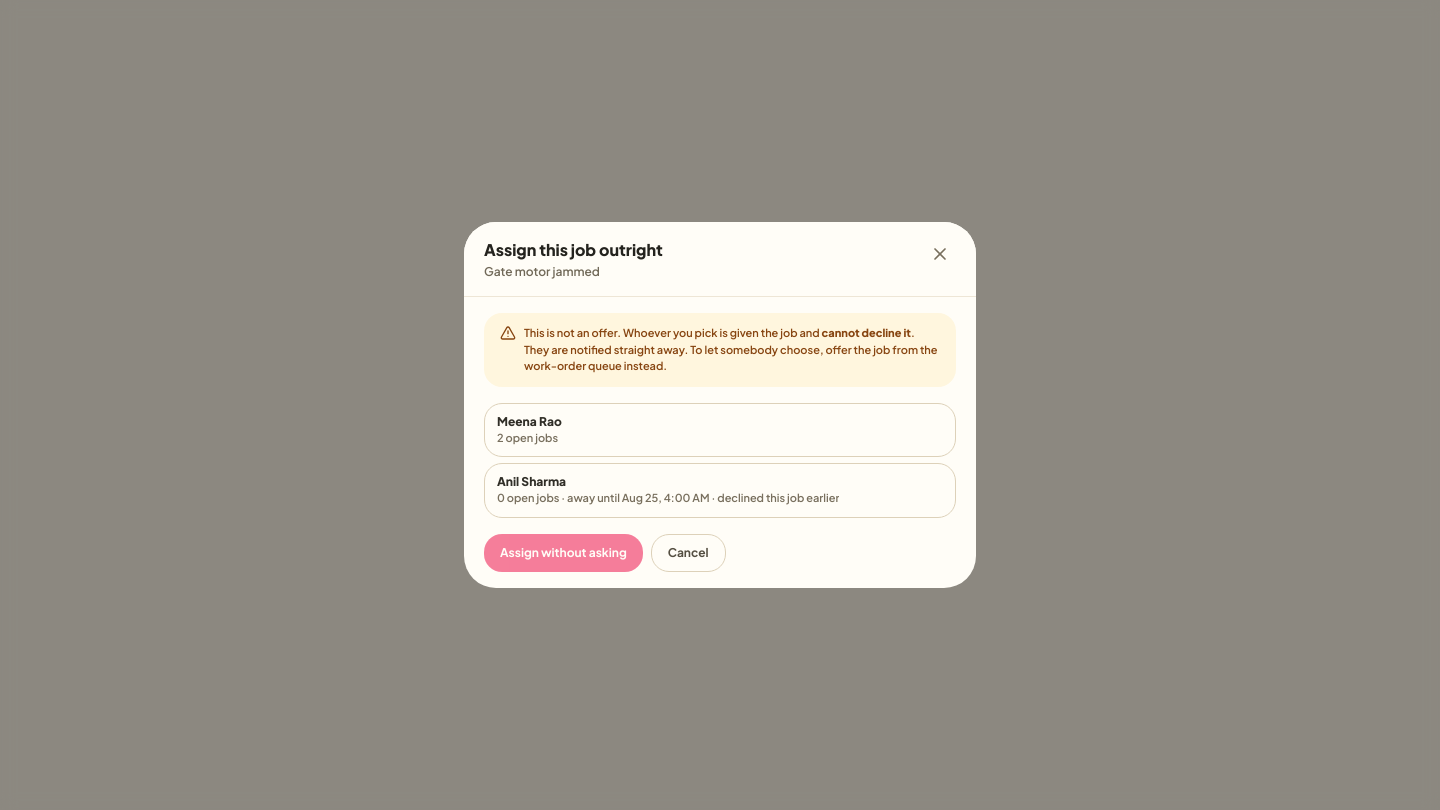
Scenario: assigning a job outright › keeps the picker open and shows the refusal when the database says no
What coordinates should you click on to do the following:
click the button "Meena Rao 2 open jobs"
I would click on:
 (529, 421)
Its box is [484,403,956,457].
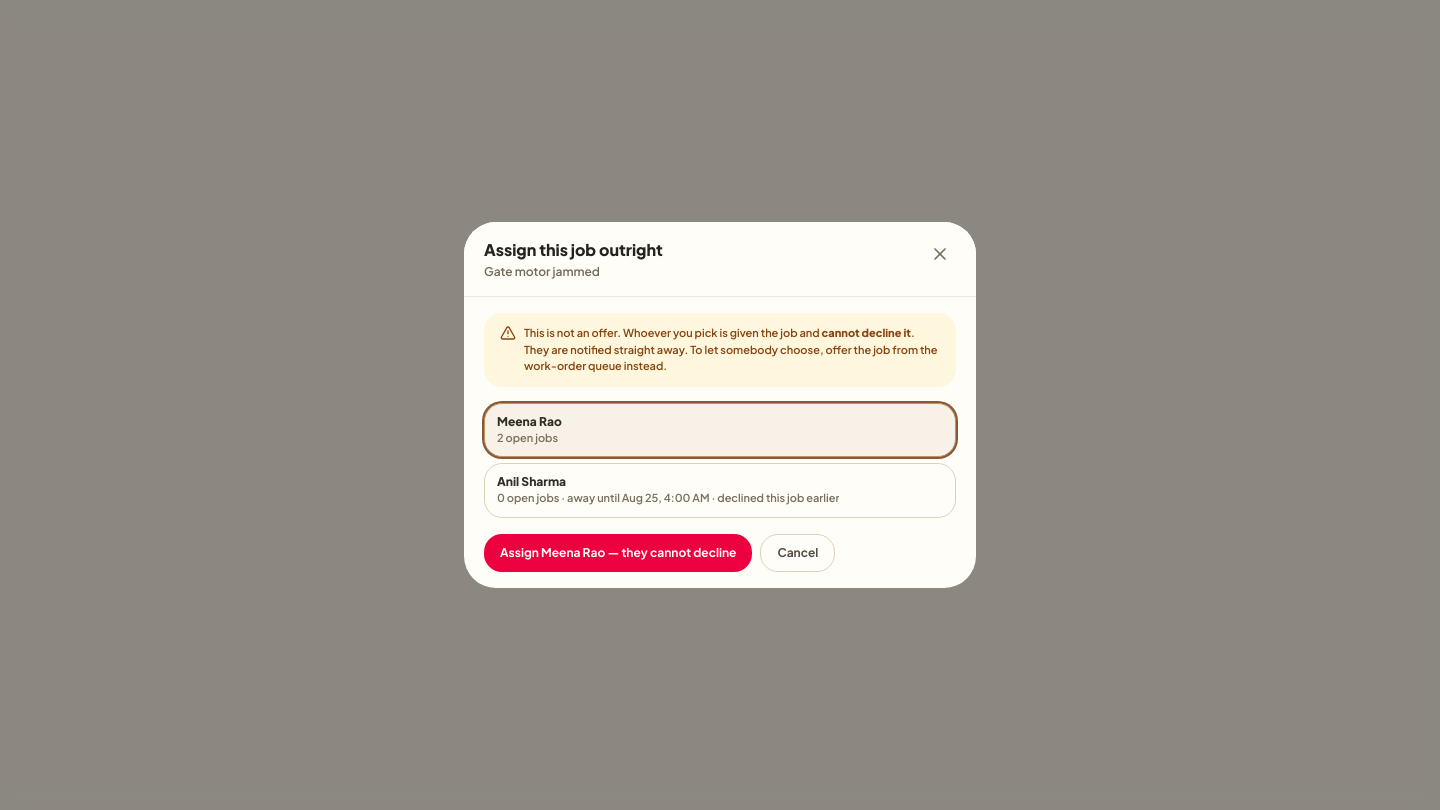
What coordinates should you click on to do the following:
click the button "Assign Meena Rao — they cannot decline"
I would click on:
 (618, 553)
Its box is [484,534,752,572].
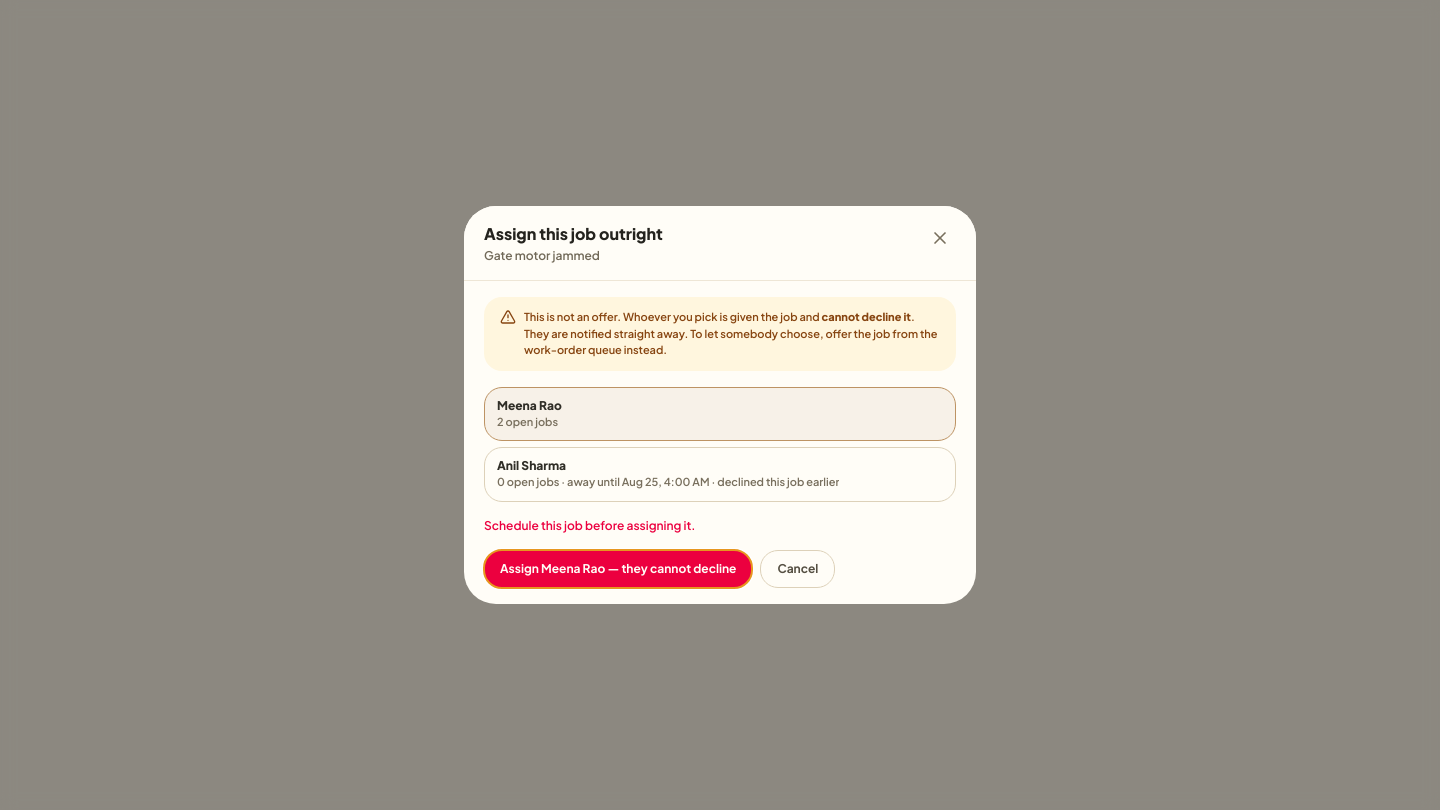
expect the message reads "Schedule this job before assigning it.": met, box [484,518,696,533]
